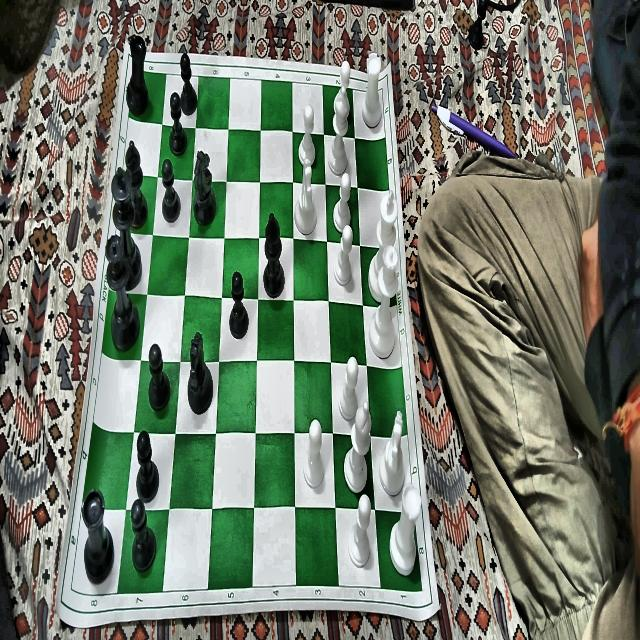BlackBishop: (125, 140, 148, 230), (263, 212, 285, 298)
BlackKing: (112, 167, 142, 290)
BlackKnight: (188, 332, 214, 414), (194, 150, 216, 226)
BlackPawn: (130, 499, 157, 574), (136, 431, 160, 501), (148, 343, 171, 412), (229, 271, 249, 340), (162, 160, 182, 223), (169, 93, 188, 158), (180, 54, 198, 116)
BlackQueen: (105, 235, 140, 353)
BlackRook: (81, 488, 114, 583), (126, 36, 149, 116)
WhiteBishop: (344, 404, 372, 494), (328, 85, 349, 176)
WhiteKing: (368, 191, 398, 302)
WhiteKnight: (380, 410, 405, 496), (294, 161, 317, 235)
WhitePawn: (347, 494, 372, 564), (303, 418, 325, 489), (338, 356, 358, 421), (334, 226, 353, 286), (298, 106, 316, 168), (333, 173, 351, 232), (334, 59, 351, 119)
WhiteQueen: (368, 245, 399, 360)
WhiteRook: (389, 486, 422, 576), (362, 53, 382, 128)
